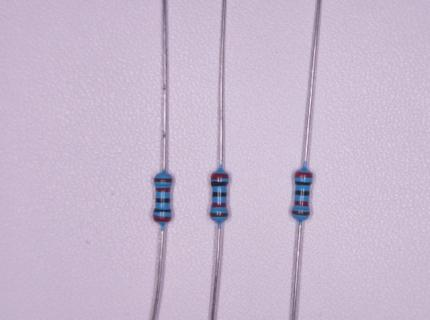Black band: (211, 182, 228, 186), (156, 198, 170, 202), (213, 193, 227, 197), (296, 191, 310, 195), (154, 209, 171, 212), (296, 182, 312, 185)
Brown band: (293, 211, 309, 216), (154, 178, 172, 182), (211, 213, 227, 217)
Red band: (153, 214, 171, 222), (294, 172, 313, 178), (211, 174, 228, 180), (295, 201, 309, 206), (212, 203, 226, 207), (156, 188, 170, 192)
